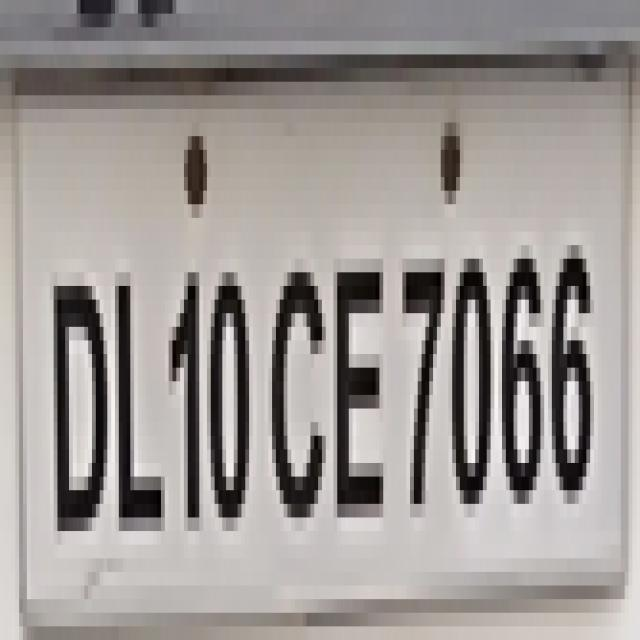0: (449, 245, 497, 526), (209, 264, 251, 536)
1: (163, 262, 206, 546)
6: (551, 246, 597, 534), (502, 243, 547, 509)
7: (398, 243, 448, 533)
C: (270, 262, 332, 538)
E: (45, 268, 110, 538), (332, 257, 391, 524)
L: (112, 275, 164, 542)
